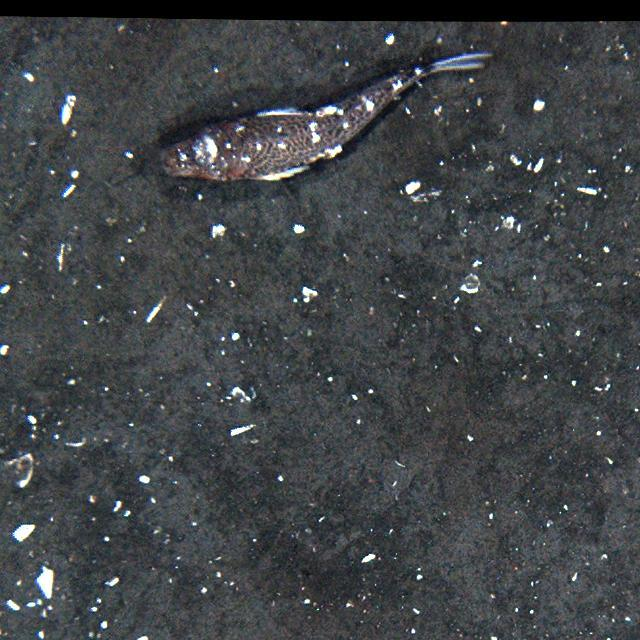roundfish: (157, 56, 489, 182)
